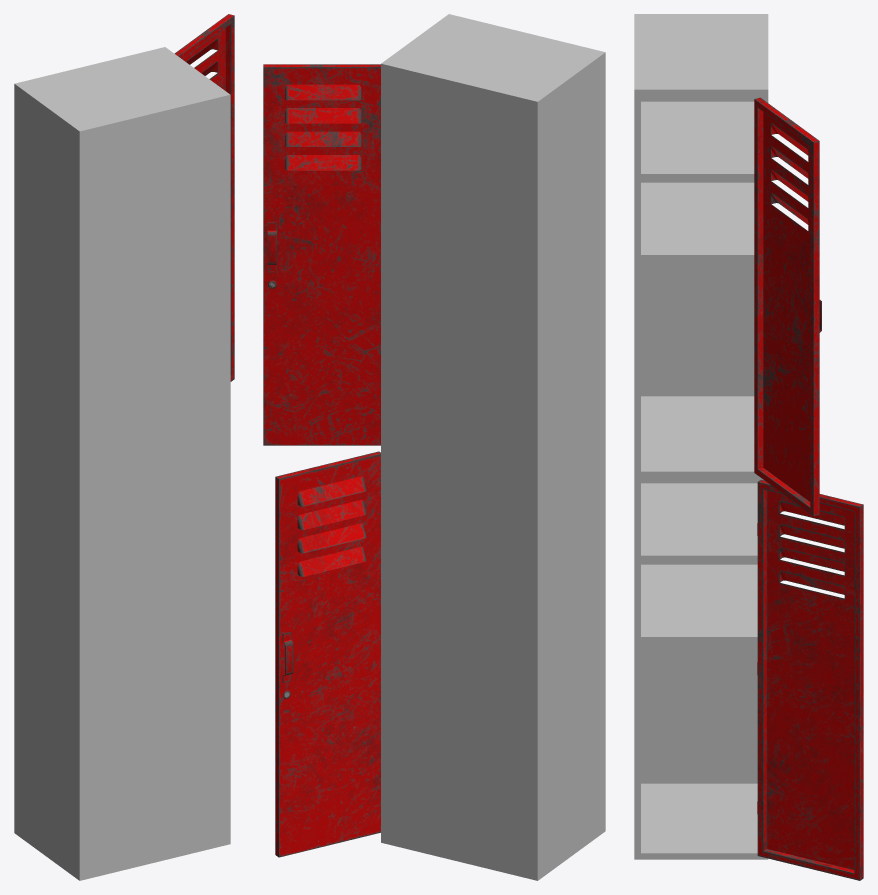
Rendered from Locker_MMT.fbx.
3 views of the same model, side by side, from view 1: azimuth 30°, elevation 25°; view 2: azimuth 150°, elevation 25°; view 3: azimuth 270°, elevation 25° (orthographic). The views are drawn at different scales.
Visible parts, largest first — view 1: Locker, Locker Door Top; view 2: Locker, Locker Door Top, Locker Door Bot; view 3: Locker, Locker Door Bot, Locker Door Top.
Part boxes in pixels (box(x1,y1,x2,y2)): Locker: box(14, 47, 230, 880); Locker Door Top: box(174, 14, 234, 381); Locker: box(381, 14, 605, 880); Locker Door Top: box(263, 64, 380, 445); Locker Door Bot: box(275, 451, 380, 857); Locker: box(634, 14, 768, 859); Locker Door Bot: box(757, 479, 863, 880); Locker Door Top: box(754, 97, 821, 516).
Size of the model in its own units: 64.22 by 190 by 51.31.
